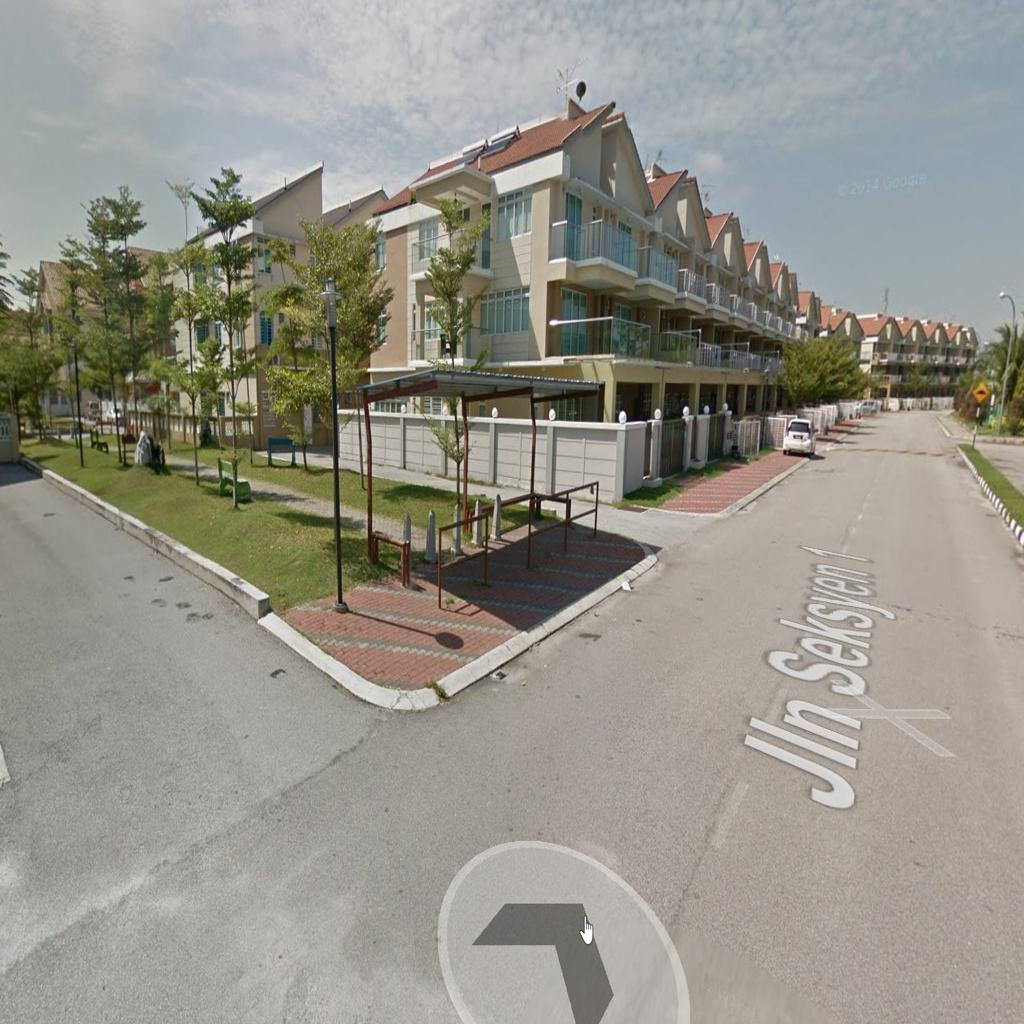Junction: (6, 520, 425, 904)
